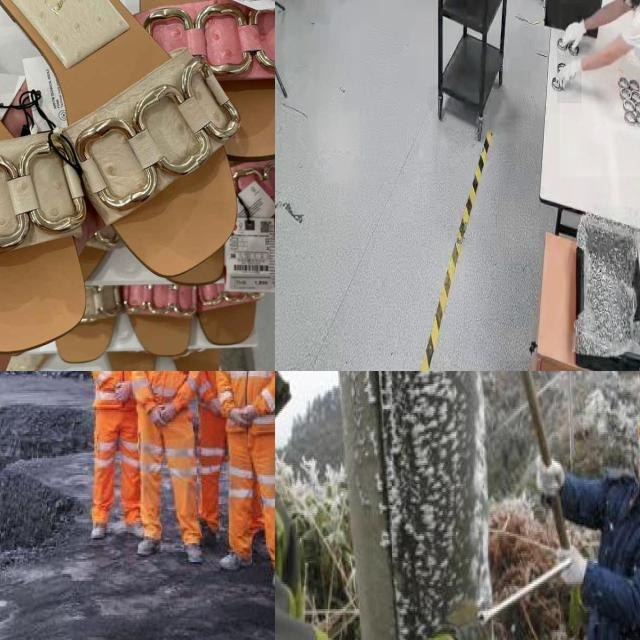Sandals: (0, 0, 275, 365), (98, 0, 275, 189)
hand_glove: (531, 453, 568, 500), (554, 543, 592, 586), (560, 4, 589, 55), (557, 47, 582, 104)
hand_noglove: (108, 378, 134, 407), (157, 398, 180, 422), (227, 407, 251, 430), (146, 403, 165, 427)
person: (556, 385, 640, 640), (134, 371, 208, 569), (559, 0, 640, 177), (214, 371, 275, 590), (87, 371, 154, 541)
shoes: (214, 550, 255, 574), (182, 538, 210, 568), (134, 533, 165, 557), (85, 518, 112, 540), (267, 561, 275, 591)
